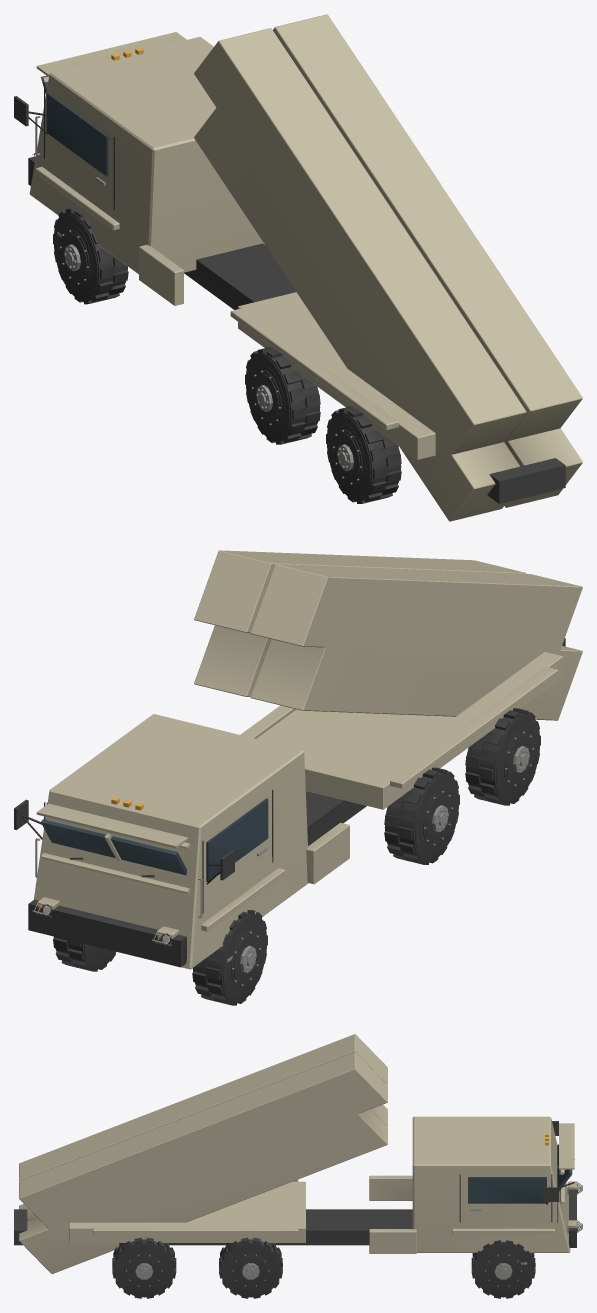
The model's file is usa_aa_pac3.glb.
3 renders of one model, top to bottom at view 1: azimuth 30°, elevation 25°; view 2: azimuth 150°, elevation 25°; view 3: azimuth 270°, elevation 25°, orthographic. The views are drawn at different scales.
Visible parts, largest first — view 1: barrel, body, turret, wheel_2, wheel_4, wheel_0; view 2: body, barrel, turret, wheel_2, wheel_4, wheel_0, wheel_1; view 3: barrel, body, turret, wheel_5, wheel_3, wheel_1.
Boxes of the visible parts, bbox=[...] form: barrel: bbox=[194, 14, 582, 521]; body: bbox=[14, 32, 565, 503]; turret: bbox=[238, 292, 435, 459]; wheel_2: bbox=[245, 347, 320, 444]; wheel_4: bbox=[326, 406, 401, 503]; wheel_0: bbox=[53, 208, 128, 304]; body: bbox=[14, 638, 565, 969]; barrel: bbox=[194, 550, 582, 720]; turret: bbox=[256, 652, 562, 809]; wheel_2: bbox=[384, 767, 459, 864]; wheel_4: bbox=[465, 708, 540, 805]; wheel_0: bbox=[192, 910, 267, 1005]; wheel_1: bbox=[53, 936, 115, 971]; barrel: bbox=[19, 1034, 387, 1273]; body: bbox=[14, 1116, 582, 1264]; turret: bbox=[69, 1181, 305, 1242]; wheel_5: bbox=[112, 1237, 176, 1298]; wheel_3: bbox=[219, 1237, 282, 1298]; wheel_1: bbox=[471, 1240, 535, 1298].
Bounding box in the file's own units: 2.9 × 4.45 × 10.39.
